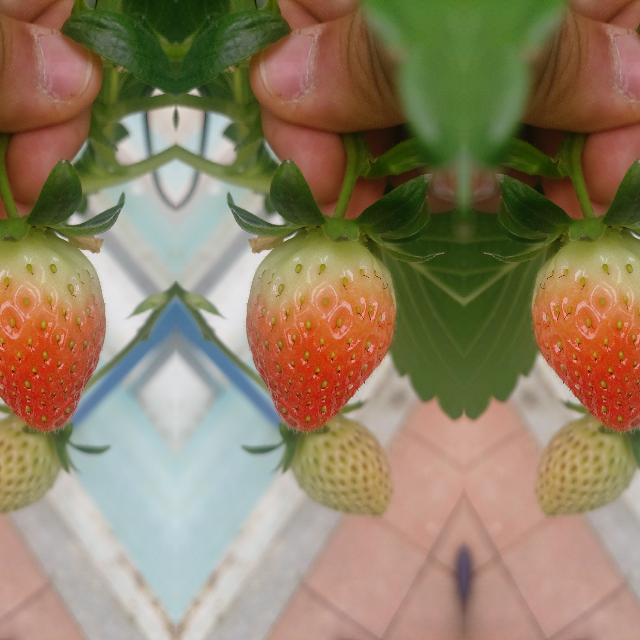Health_25: (266, 400, 396, 520), (530, 400, 640, 519), (0, 400, 84, 519)
Health_75: (245, 230, 395, 432), (531, 230, 640, 431), (0, 230, 105, 431)
